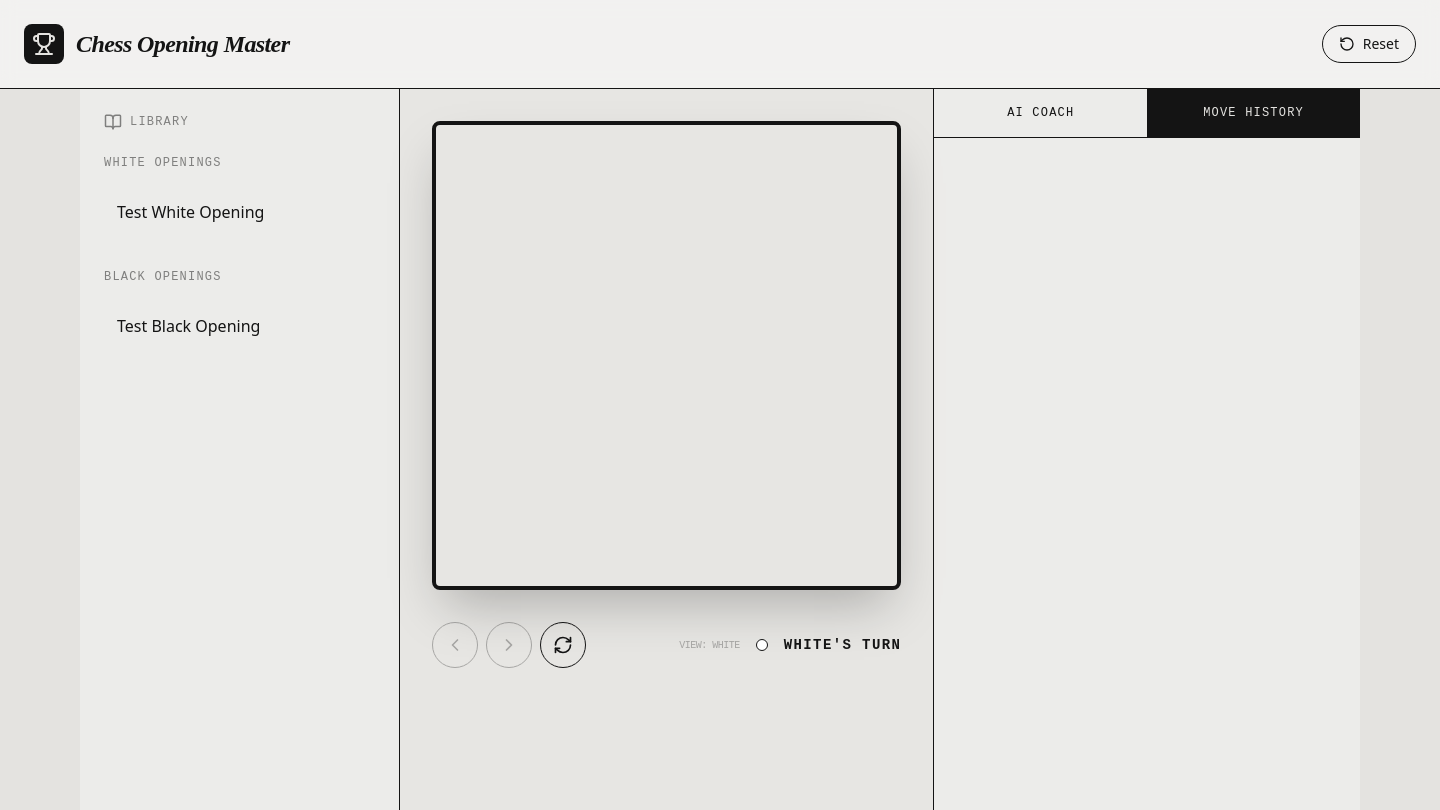
it: App Component › Opening Selection › populates the move history panel with each opening move
Expected: the text "Test White Opening" is shown, x1=117 y1=200 x2=264 y2=224
Click the button "Test White Opening": (240, 212) x1=104 y1=187 x2=375 y2=237
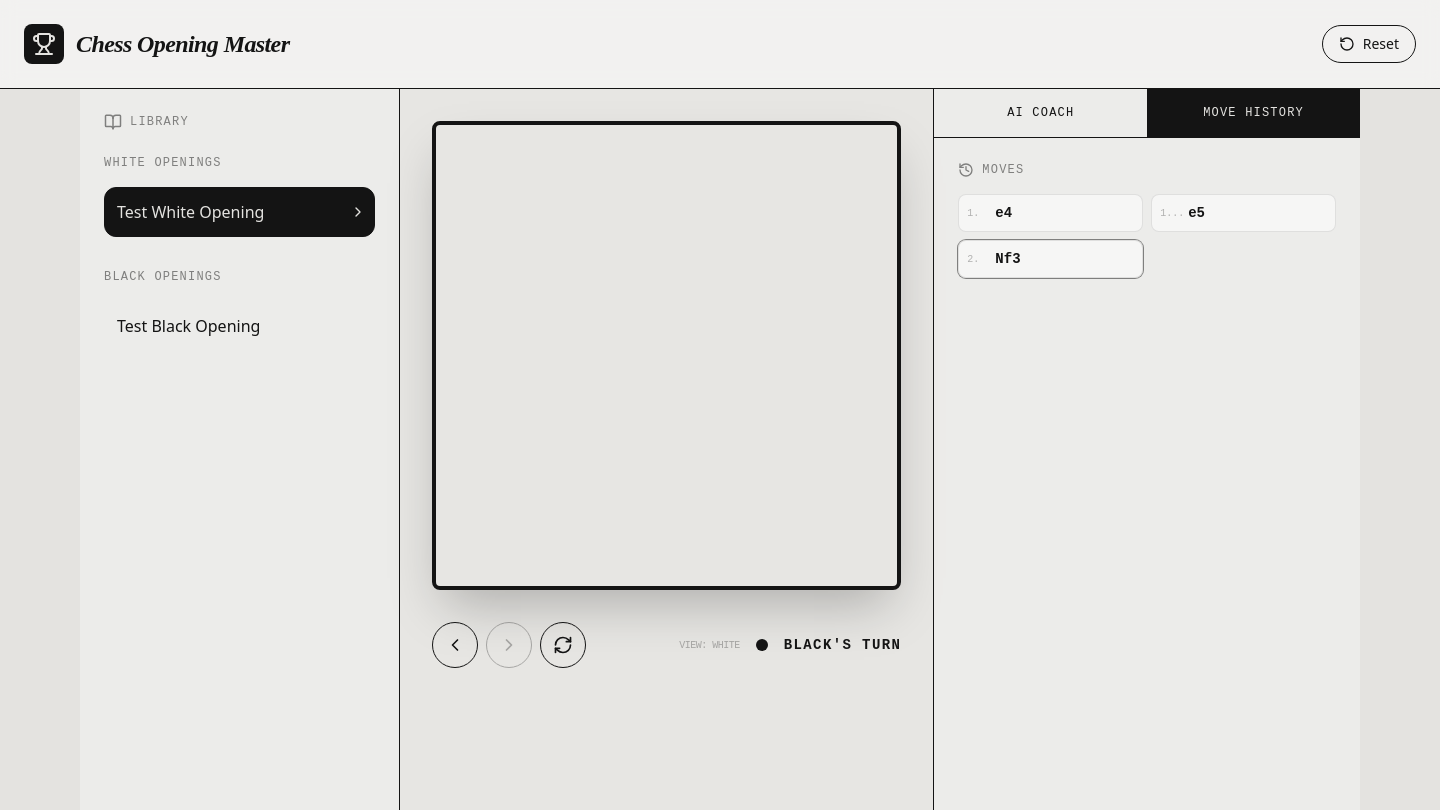
Result: the text "e4" is shown at x1=995 y1=203 x2=1012 y2=223
Result: the text "e5" is shown at x1=1188 y1=203 x2=1205 y2=223
Result: the text "Nf3" is shown at x1=995 y1=249 x2=1020 y2=269
